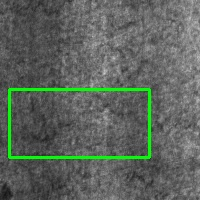crazing: (9, 89, 149, 157)
